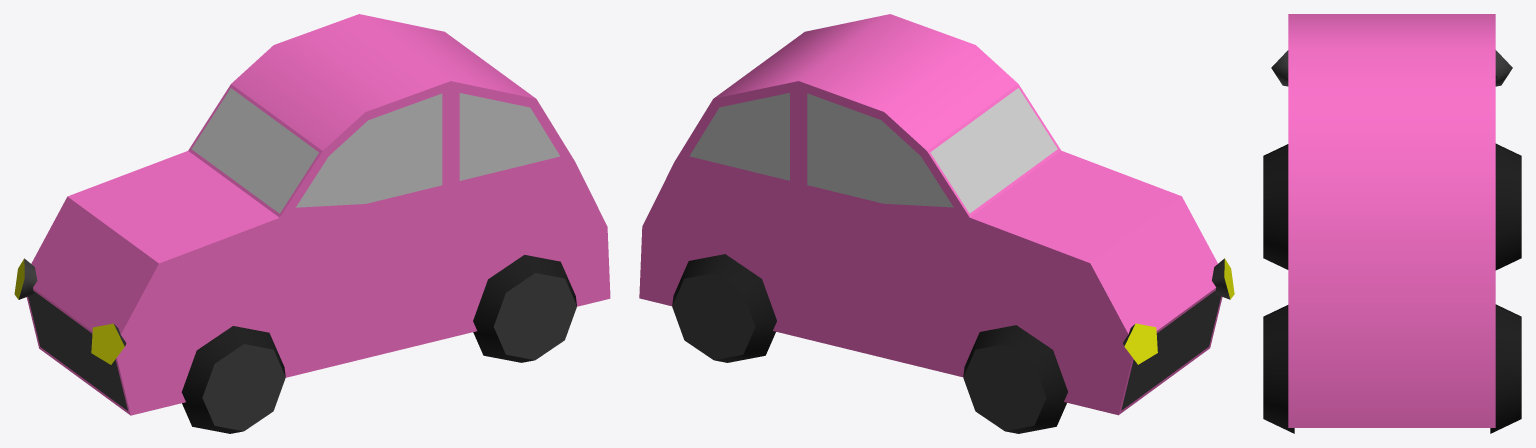
The model's file is Wooden_Car_E.FBX.
3 views of the same model, side by side, from view 1: azimuth 30°, elevation 25°; view 2: azimuth 150°, elevation 25°; view 3: azimuth 270°, elevation 25° (orthographic). The views are drawn at different scales.
Parts seen in each view (by area): view 1: Wooden_Car; view 2: Wooden_Car; view 3: Wooden_Car.
Boxes of the visible parts, box(x1,y1,x2,y2) form: Wooden_Car: box(14, 14, 610, 433); Wooden_Car: box(639, 14, 1234, 433); Wooden_Car: box(1263, 14, 1521, 433).
Size of the model in its own units: 112 by 63.34 by 43.43.
